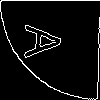A: (25, 25, 71, 60)
